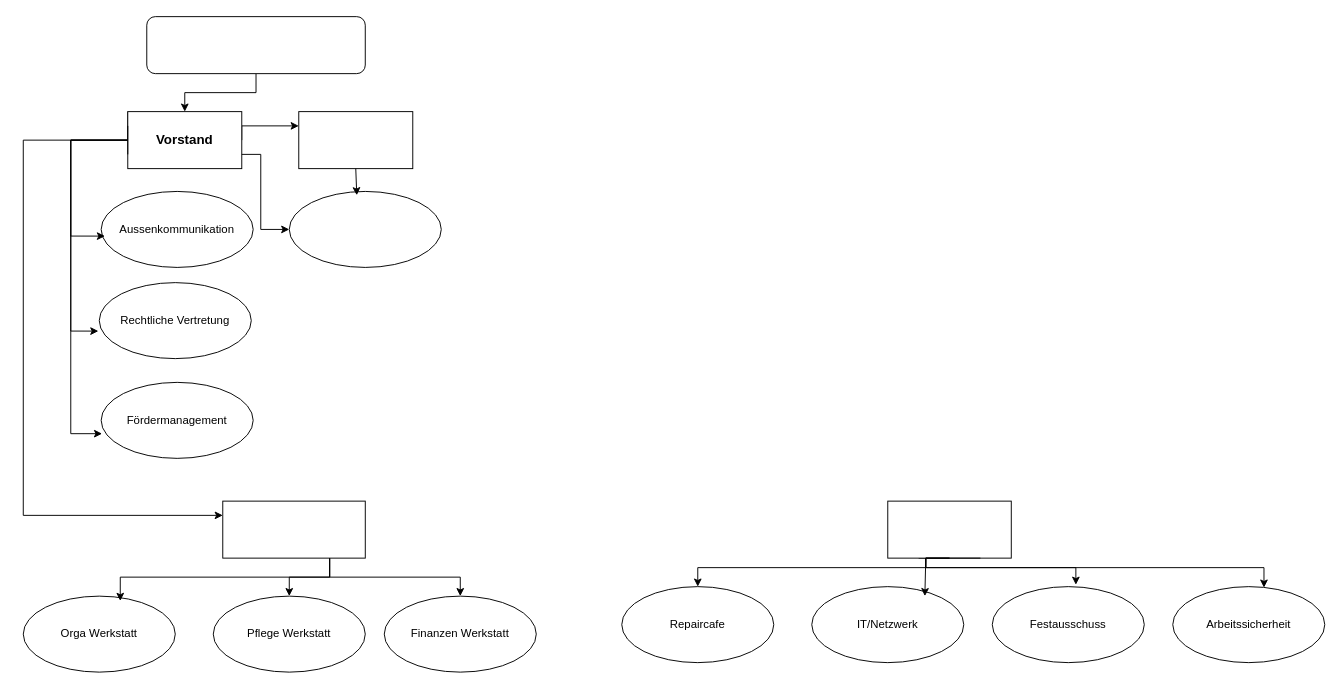
Some shapes in this 1341 by 689 pixel diagram are drawn without their labels. The centre of each missing label's shape, as x and y in pixels:
"Finanzen" goes at point (364, 228).
"Kassenwart" goes at point (355, 140).
"Mitgliederversammlung" goes at point (255, 45).
"Projektgruppen" goes at point (949, 529).
"Werkstattleitende" goes at point (293, 529).
